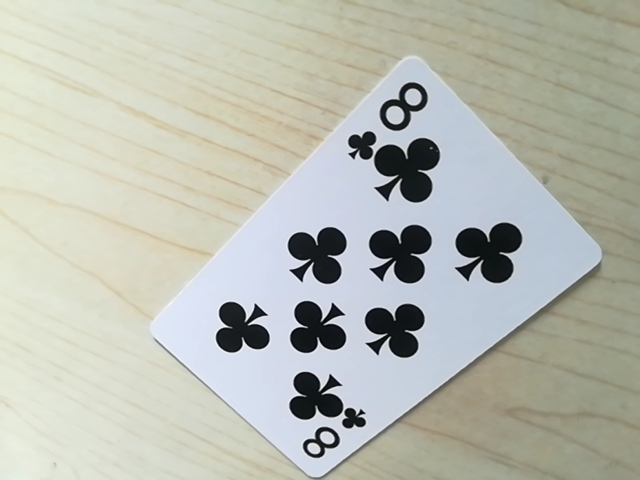mh 8: (347, 71, 435, 160), (290, 413, 364, 469)
